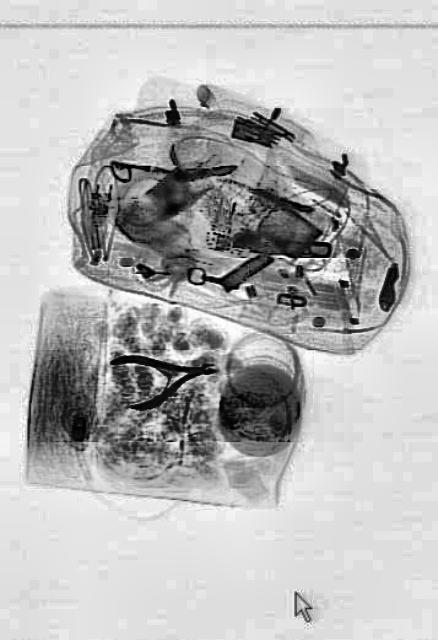Pliers: (108, 335, 218, 415)
